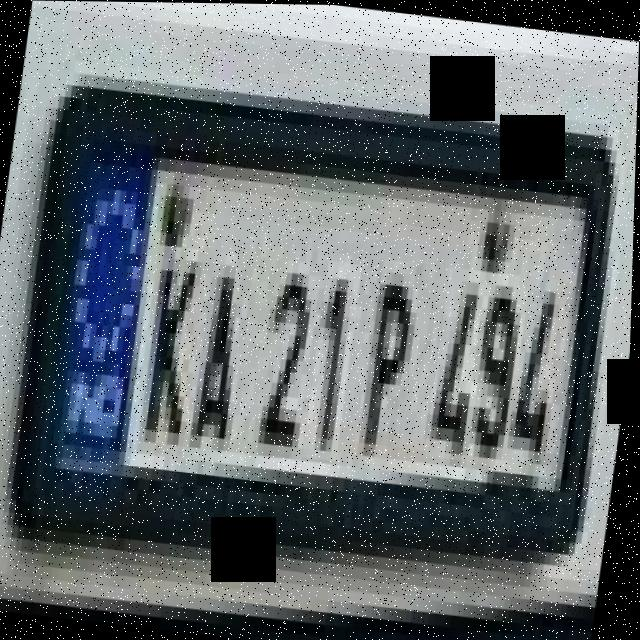1: (304, 260, 364, 460)
4: (426, 265, 494, 459), (509, 279, 577, 460)
9: (467, 270, 534, 465)
A: (187, 256, 256, 457)
K: (137, 245, 210, 455)
P: (358, 259, 427, 460)
